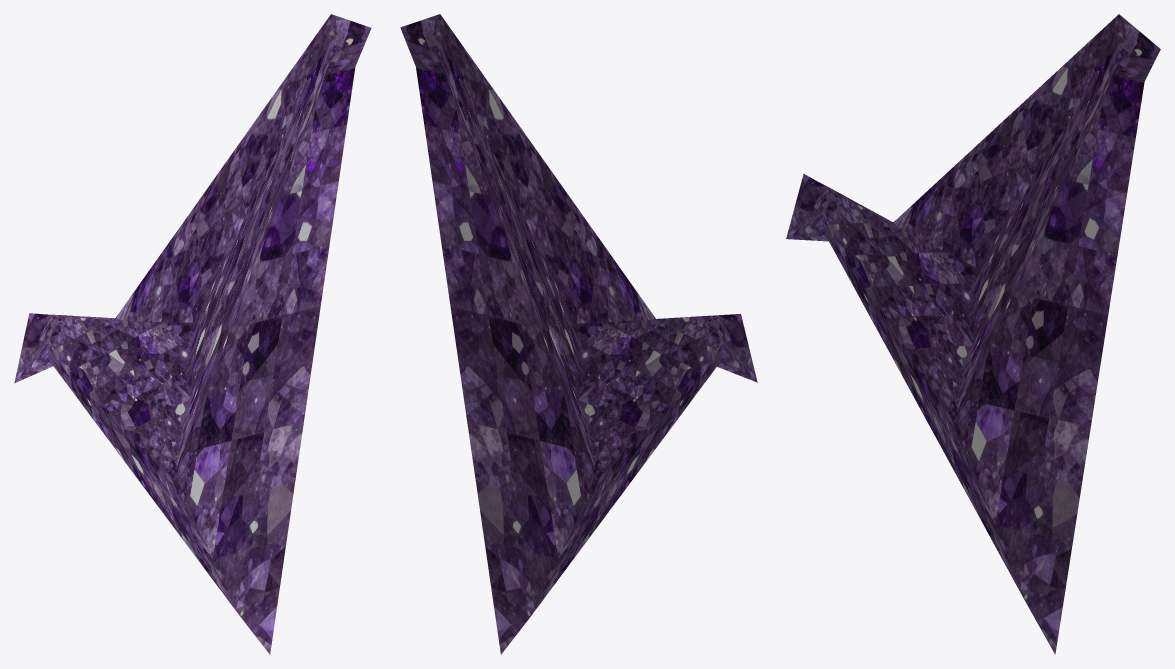
3 renders of one model, left to right at view 1: azimuth 30°, elevation 25°; view 2: azimuth 150°, elevation 25°; view 3: azimuth 330°, elevation 25°, orthographic. The views are drawn at different scales.
Visible parts, largest first — view 1: Origami_Model_61; view 2: Origami_Model_61; view 3: Origami_Model_61.
Part boxes in pixels (bbox=[...]): Origami_Model_61: bbox=[14, 14, 371, 654]; Origami_Model_61: bbox=[400, 14, 757, 654]; Origami_Model_61: bbox=[786, 14, 1160, 654].
Bounding box in the file's own units: 1 × 1.67 × 0.00589.
1 material, 1 textured.
